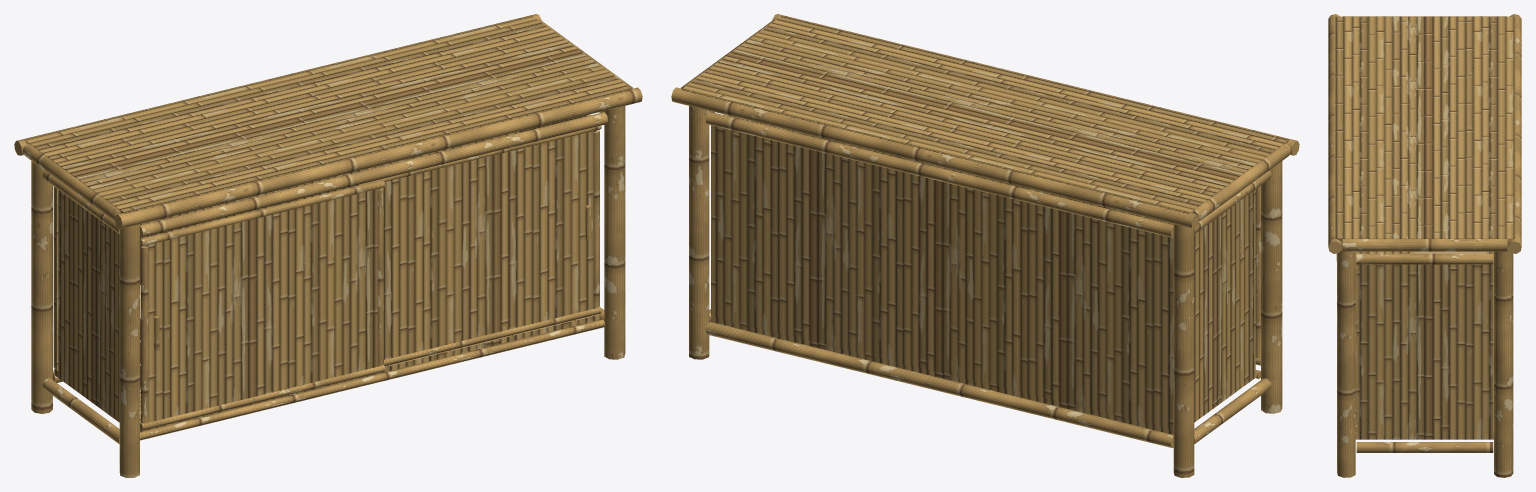
File: servecounter.glb
3 views of the same model, side by side, from view 1: azimuth 30°, elevation 25°; view 2: azimuth 150°, elevation 25°; view 3: azimuth 270°, elevation 25° (orthographic). The views are drawn at different scales.
Parts seen in each view (by area): view 1: ServeCounter, ServeDoor0, ServeDoor1; view 2: ServeCounter, ServeDoor0; view 3: ServeCounter, ServeDoor1.
Boxes of the visible parts, bbox=[...] form: ServeCounter: bbox=[14, 14, 642, 477]; ServeDoor0: bbox=[140, 179, 385, 430]; ServeDoor1: bbox=[355, 125, 601, 366]; ServeCounter: bbox=[671, 14, 1299, 477]; ServeDoor0: bbox=[1035, 186, 1260, 365]; ServeCounter: bbox=[1328, 14, 1521, 477]; ServeDoor1: bbox=[1355, 251, 1358, 432].
Bounding box in the file's own units: 1 × 0.492 × 0.3596.
6 materials, 2 textured.
